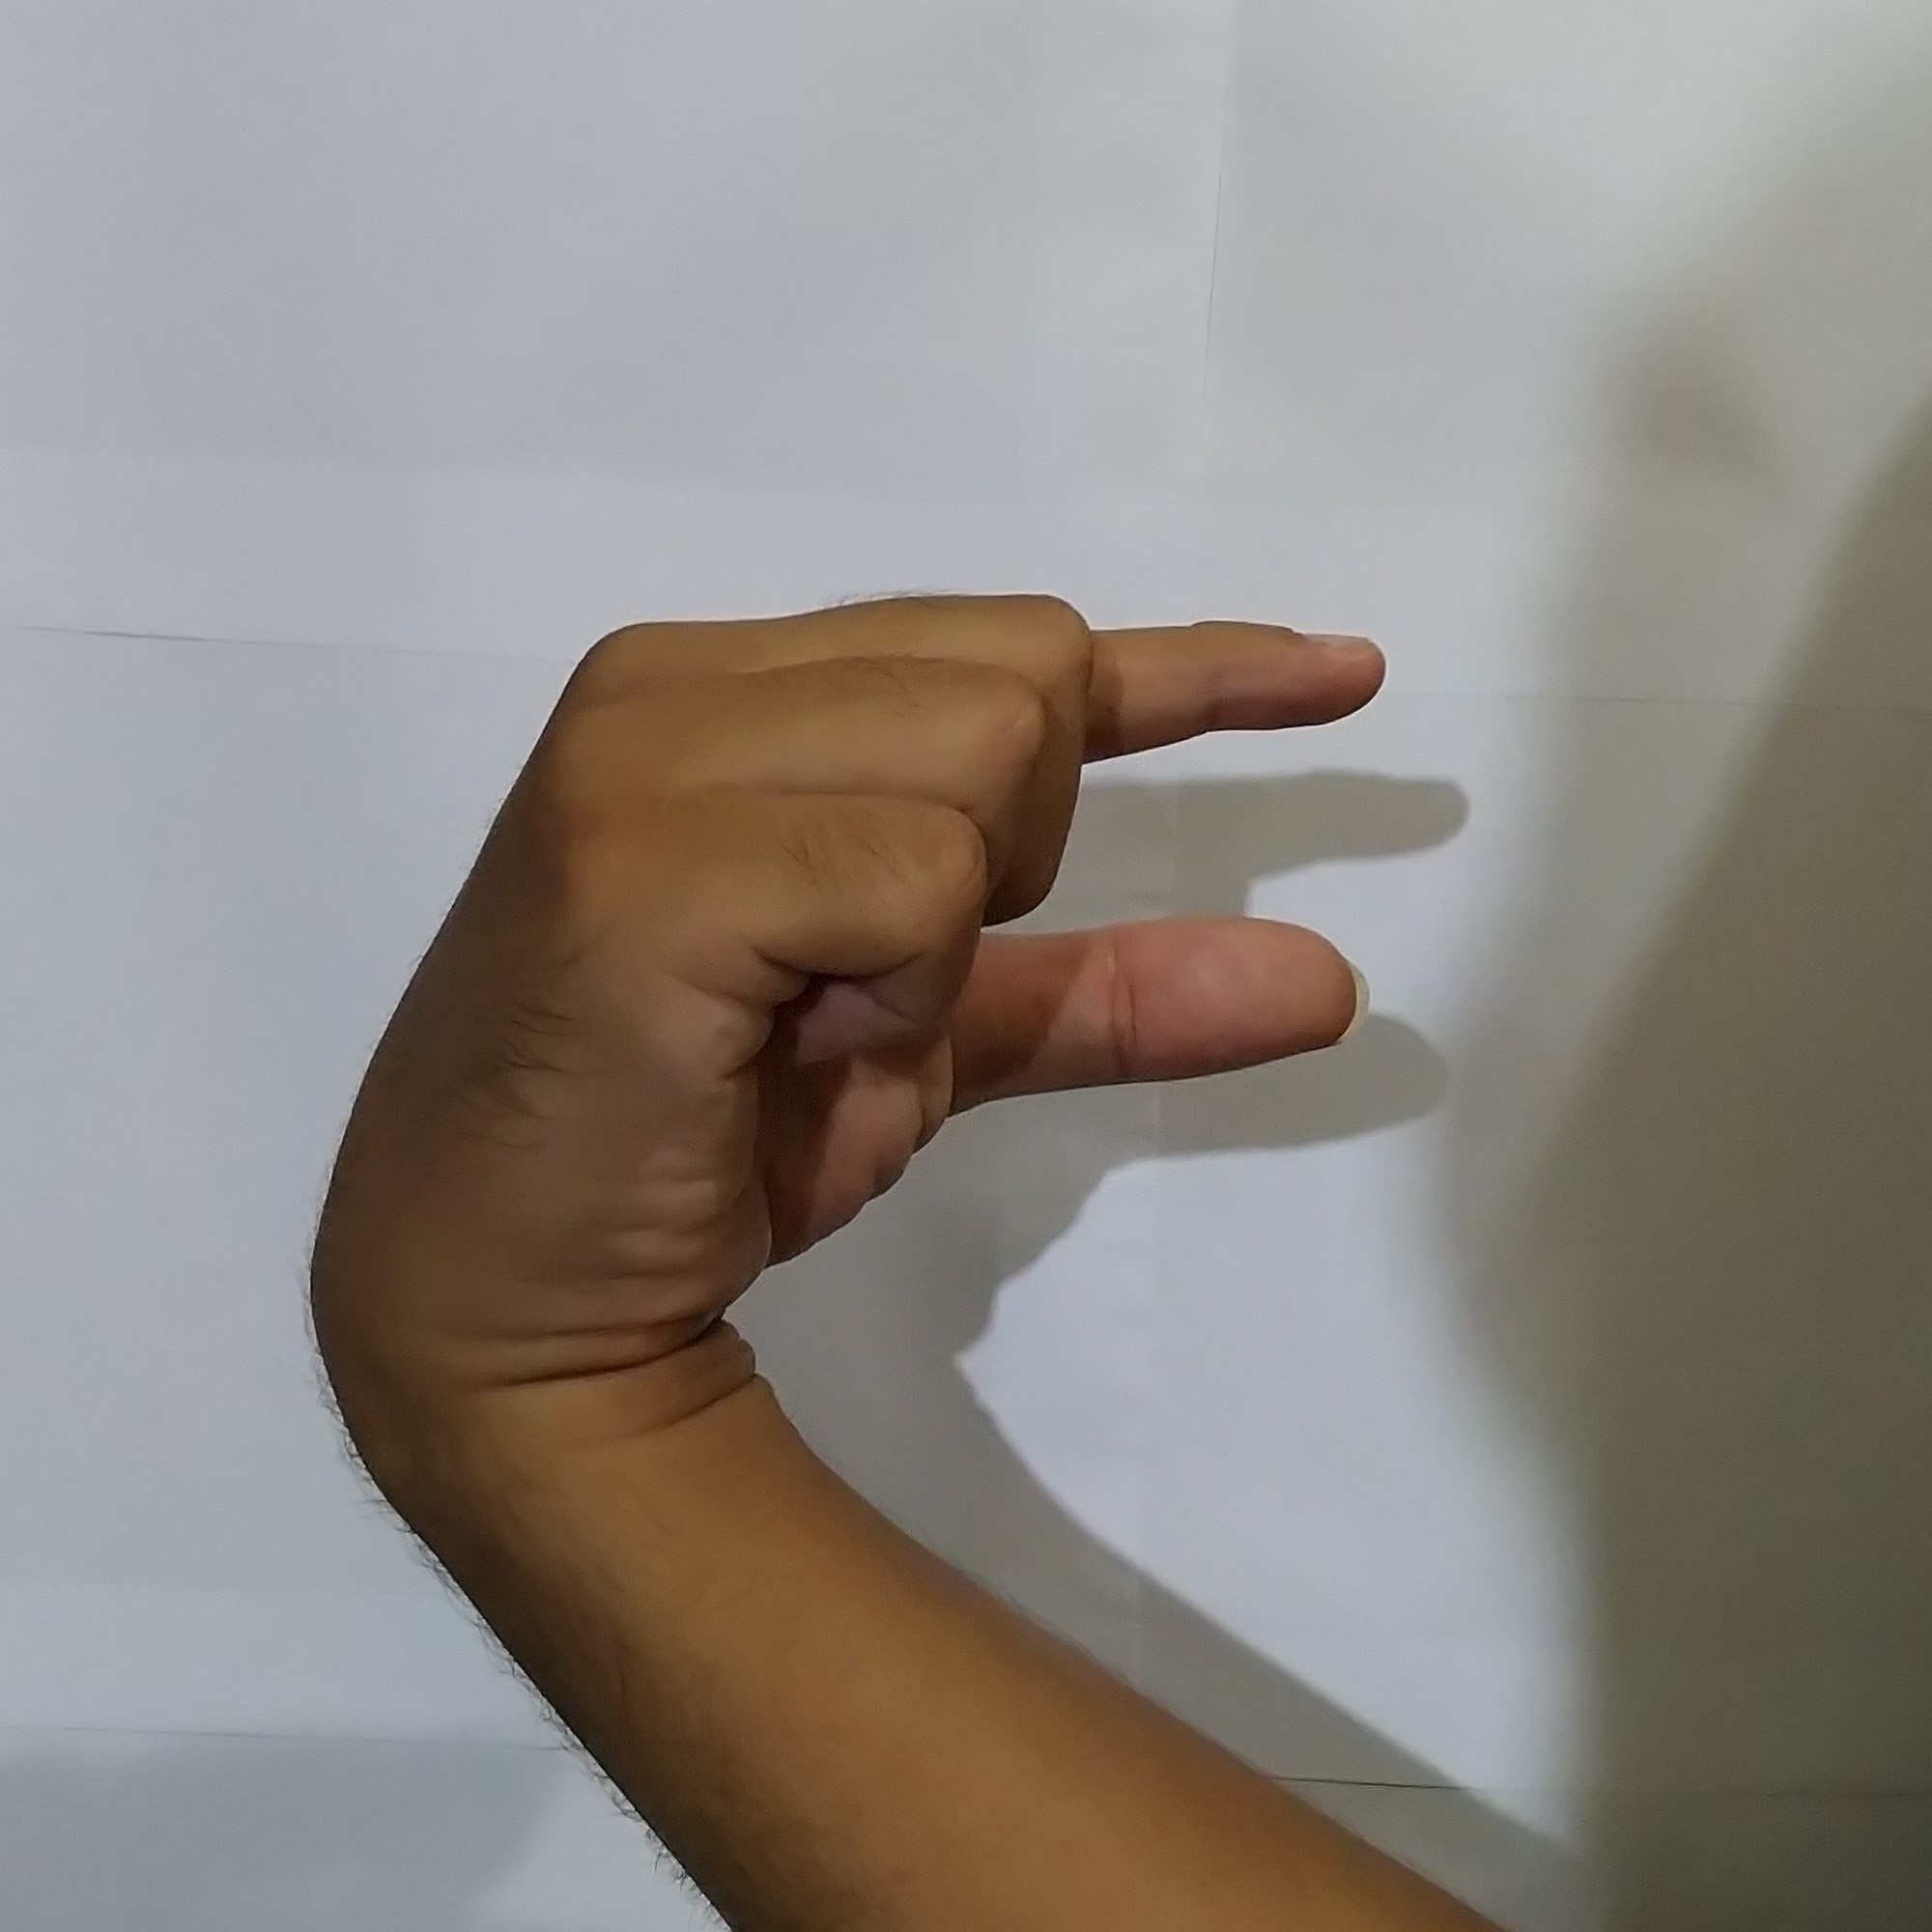G: (310, 564, 1412, 1346)
